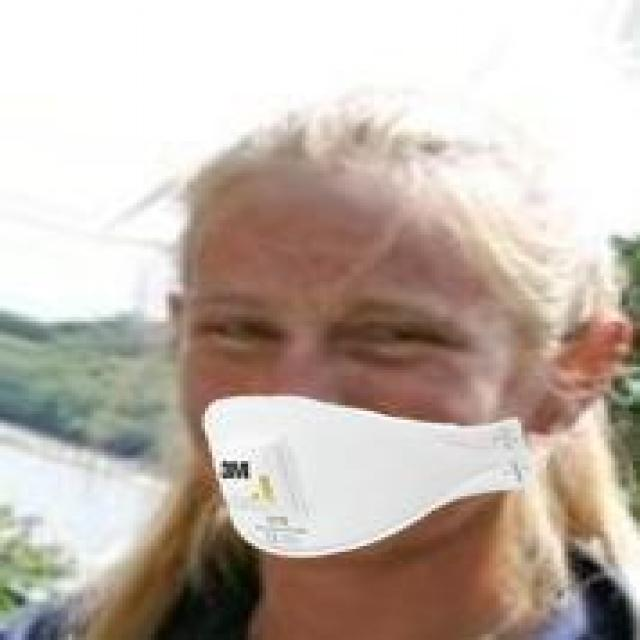mask: (79, 97, 640, 569)
